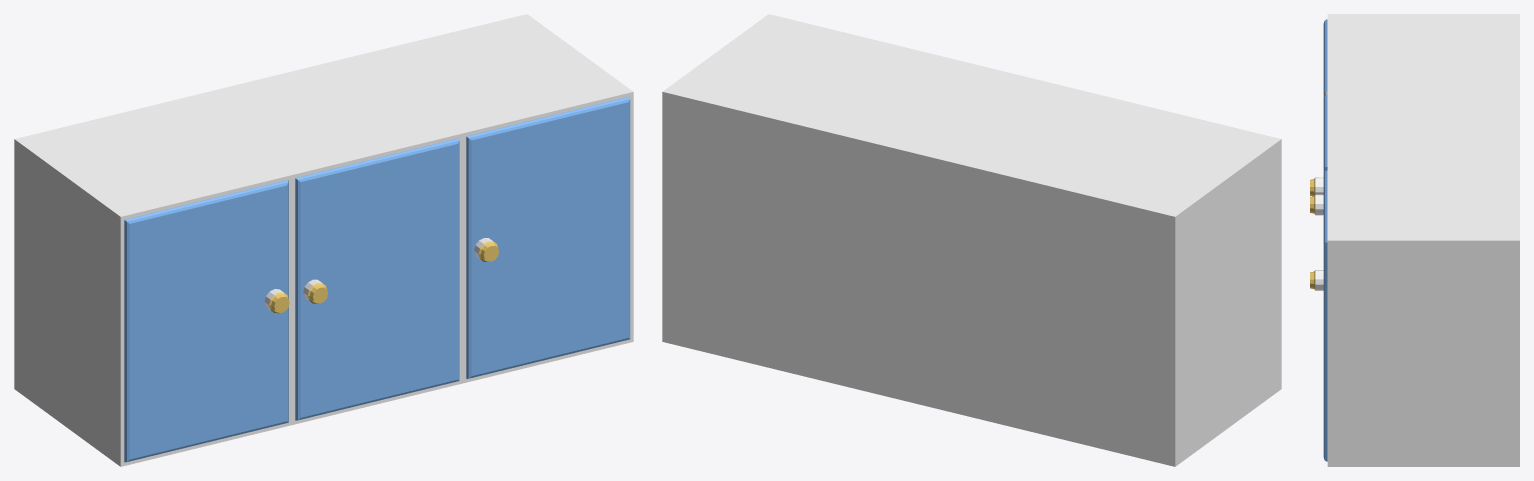
File: Wardrobe_20.fbx
The picture shows the model from 3 angles, left to right: view 1: azimuth 30°, elevation 25°; view 2: azimuth 150°, elevation 25°; view 3: azimuth 270°, elevation 25°; orthographic projection. The views are drawn at different scales.
Visible parts, largest first — view 1: Wardrobe_20, Wardrobe_20 Door_1, Wardrobe_20 Door_2, Wardrobe_20 Door_3; view 2: Wardrobe_20; view 3: Wardrobe_20, Wardrobe_20 Door_3, Wardrobe_20 Door_2, Wardrobe_20 Door_1.
Part boxes in pixels (<box>): Wardrobe_20: <box>14,14,633,466</box>; Wardrobe_20 Door_1: <box>124,180,289,462</box>; Wardrobe_20 Door_2: <box>295,138,459,420</box>; Wardrobe_20 Door_3: <box>466,96,630,378</box>; Wardrobe_20: <box>662,14,1281,466</box>; Wardrobe_20: <box>1325,14,1519,466</box>; Wardrobe_20 Door_3: <box>1310,170,1327,461</box>; Wardrobe_20 Door_2: <box>1310,94,1327,215</box>; Wardrobe_20 Door_1: <box>1310,19,1327,196</box>.
Bounding box in the file's own units: 1.87 × 0.8729 × 0.7334.
